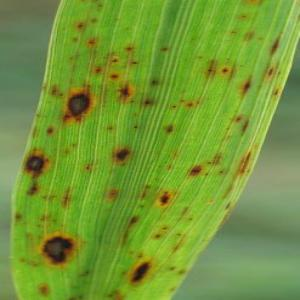Brown_Spot: (33, 233, 84, 269), (60, 81, 96, 125), (127, 255, 157, 289), (107, 142, 136, 171), (113, 77, 139, 105), (55, 182, 78, 211), (21, 152, 48, 176), (265, 30, 288, 58), (235, 72, 258, 97), (238, 146, 255, 178), (207, 147, 226, 170), (185, 161, 206, 181), (156, 188, 174, 210), (203, 58, 219, 82), (24, 181, 42, 199), (106, 183, 121, 203), (41, 123, 59, 139), (35, 281, 53, 297), (239, 117, 252, 138), (169, 239, 185, 255), (161, 122, 177, 137), (127, 213, 143, 228), (73, 19, 89, 34), (269, 84, 283, 100), (66, 33, 84, 45), (103, 122, 118, 136), (236, 10, 251, 23), (11, 209, 24, 224), (91, 64, 106, 77), (86, 34, 99, 49), (243, 28, 256, 43), (111, 287, 126, 300), (48, 84, 60, 100), (175, 266, 189, 279), (121, 43, 136, 55), (141, 96, 154, 109), (106, 72, 121, 83), (66, 291, 84, 300), (82, 162, 95, 174), (156, 44, 171, 54), (148, 76, 160, 88), (223, 201, 235, 213), (30, 125, 39, 141), (129, 122, 142, 133), (264, 65, 275, 78), (151, 232, 163, 243), (215, 167, 228, 177), (219, 65, 230, 76), (233, 113, 244, 124), (169, 102, 181, 112), (126, 59, 141, 67), (228, 27, 240, 37), (118, 268, 130, 278), (185, 100, 196, 110), (88, 15, 99, 25), (166, 264, 177, 274), (167, 285, 179, 294), (136, 202, 148, 211), (81, 267, 93, 276), (95, 1, 105, 11), (201, 171, 212, 180), (165, 162, 174, 173), (196, 53, 205, 63), (161, 224, 171, 233), (62, 148, 72, 157), (135, 251, 145, 260), (189, 34, 199, 43), (104, 291, 114, 300), (33, 111, 44, 119), (110, 56, 119, 65), (70, 141, 80, 149), (174, 230, 184, 238), (126, 248, 135, 256), (17, 256, 26, 264), (186, 216, 194, 224), (256, 35, 264, 43), (276, 69, 283, 78), (194, 100, 203, 107), (225, 55, 232, 63), (58, 92, 66, 99), (224, 124, 231, 132), (60, 223, 66, 229), (51, 218, 57, 224), (36, 223, 42, 229)
